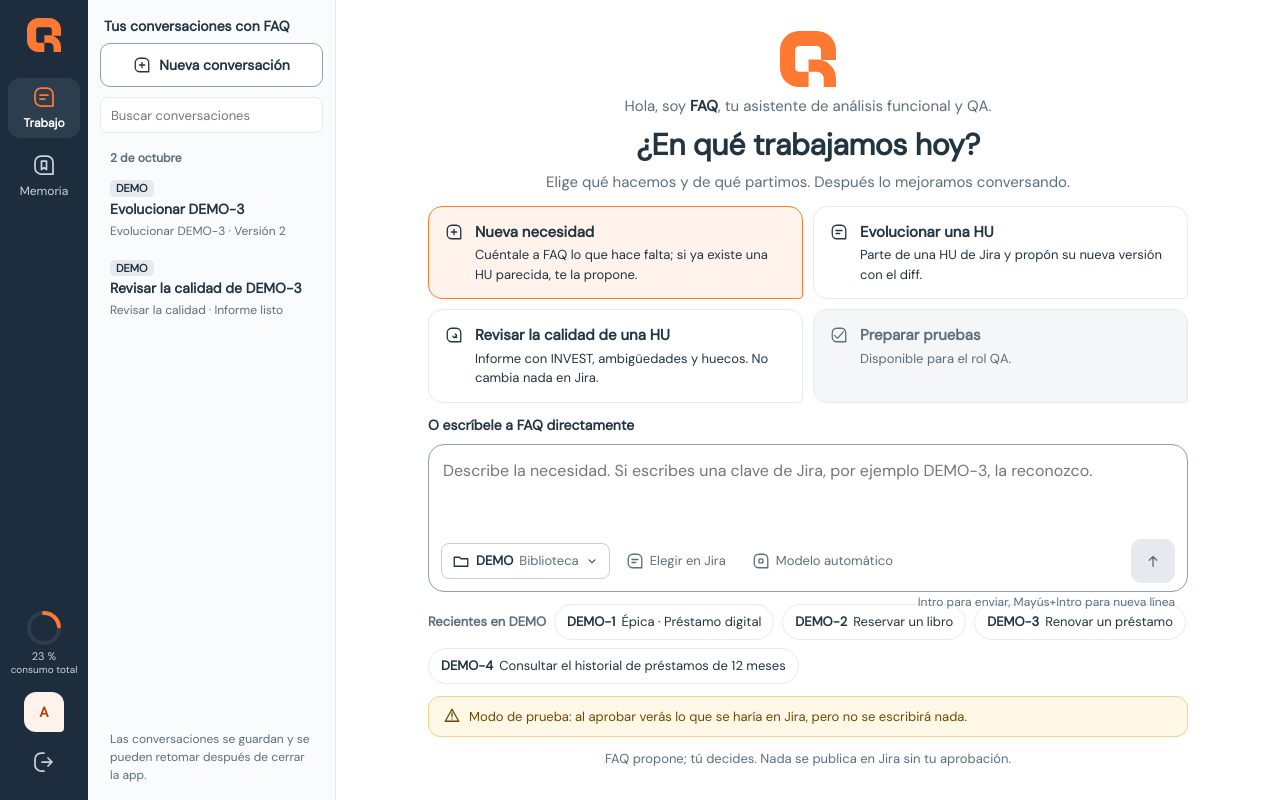
Scenario: Lista de conversaciones · abrir una (auditoría) › una respuesta que llega tarde de una conversación anterior se descarta
The width and height of the screenshot is (1280, 800).
Click the button "DEMO Evolucionar DEMO-3 Evolucionar DEMO-3 · Versión 2" at (212, 210), box [100,171,323,248]
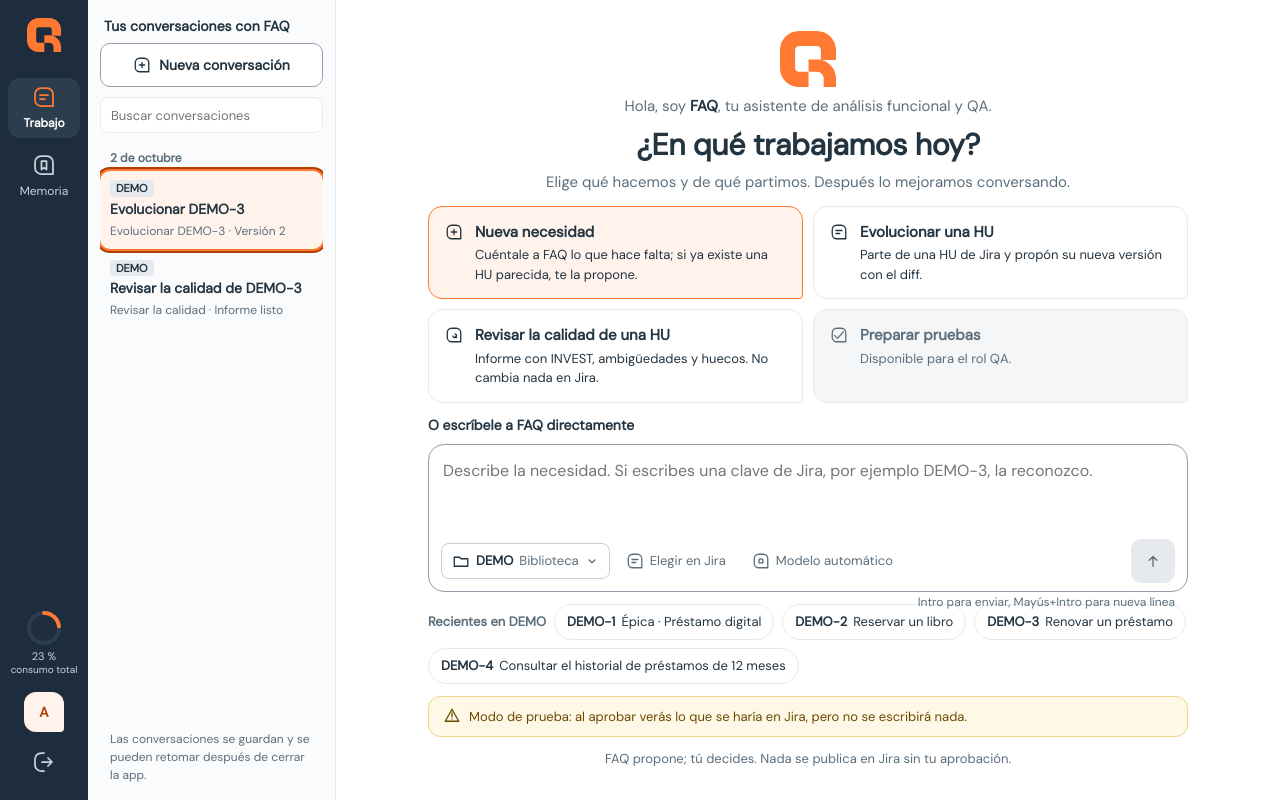
Click the button "Revisar la calidad de DEMO-3" at (212, 289), box [100,250,323,328]
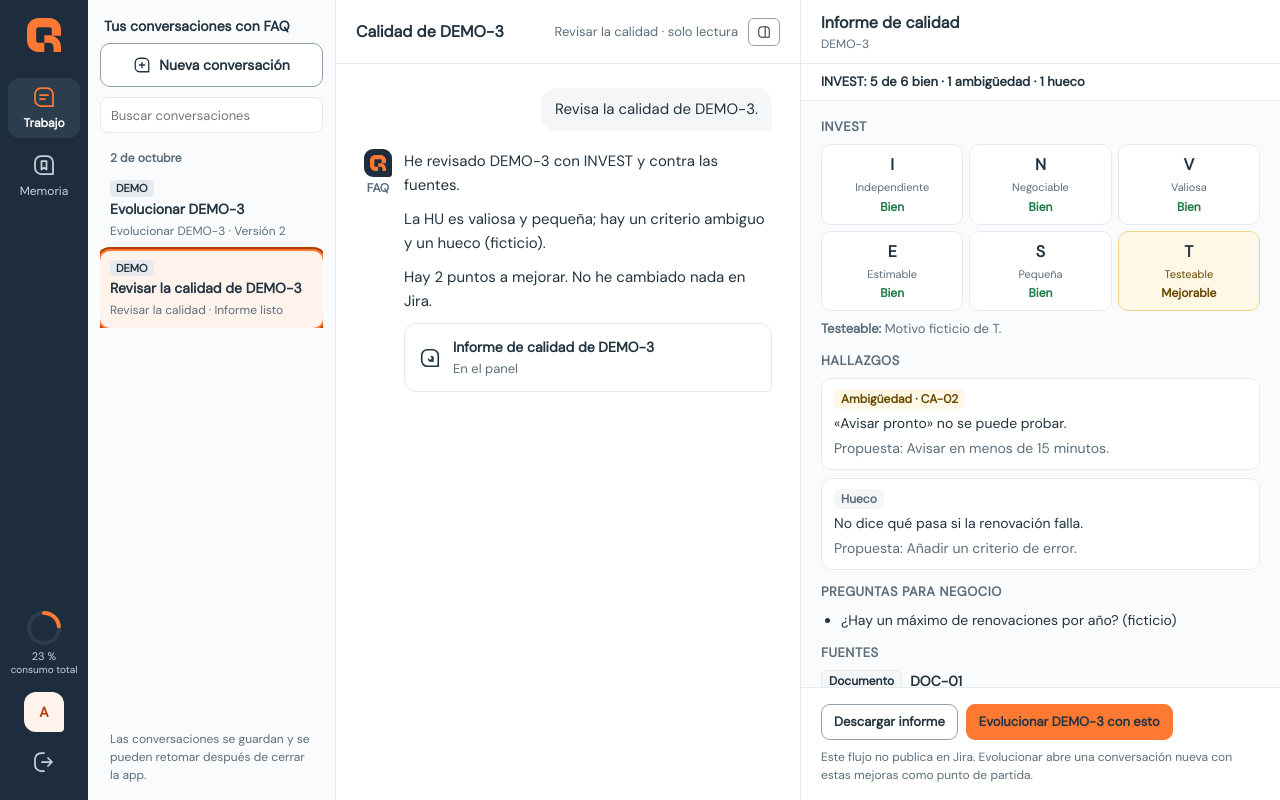
Now the heading "Calidad de DEMO-3" is shown, box [356,20,504,42]
